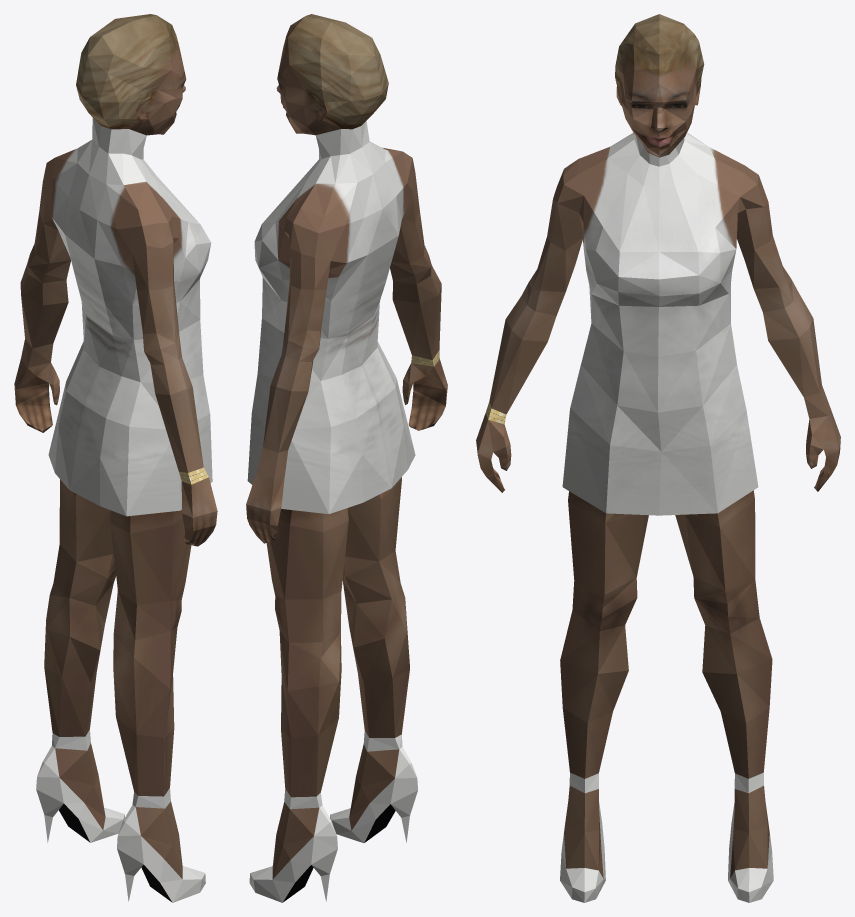
File: wfyri.obj
3 views of the same model, side by side, from view 1: azimuth 30°, elevation 25°; view 2: azimuth 150°, elevation 25°; view 3: azimuth 270°, elevation 25° (orthographic). The views are drawn at different scales.
Visible parts, largest first — view 1: _Pelvis; view 2: _Pelvis; view 3: _Pelvis.
Part boxes in pixels (x1,y1,x2,y2): _Pelvis: [14, 14, 217, 902]; _Pelvis: [246, 14, 447, 902]; _Pelvis: [476, 14, 840, 902].
Size of the model in its own units: 0.2779 by 1.8 by 0.6856.
2 materials, 2 textured.
